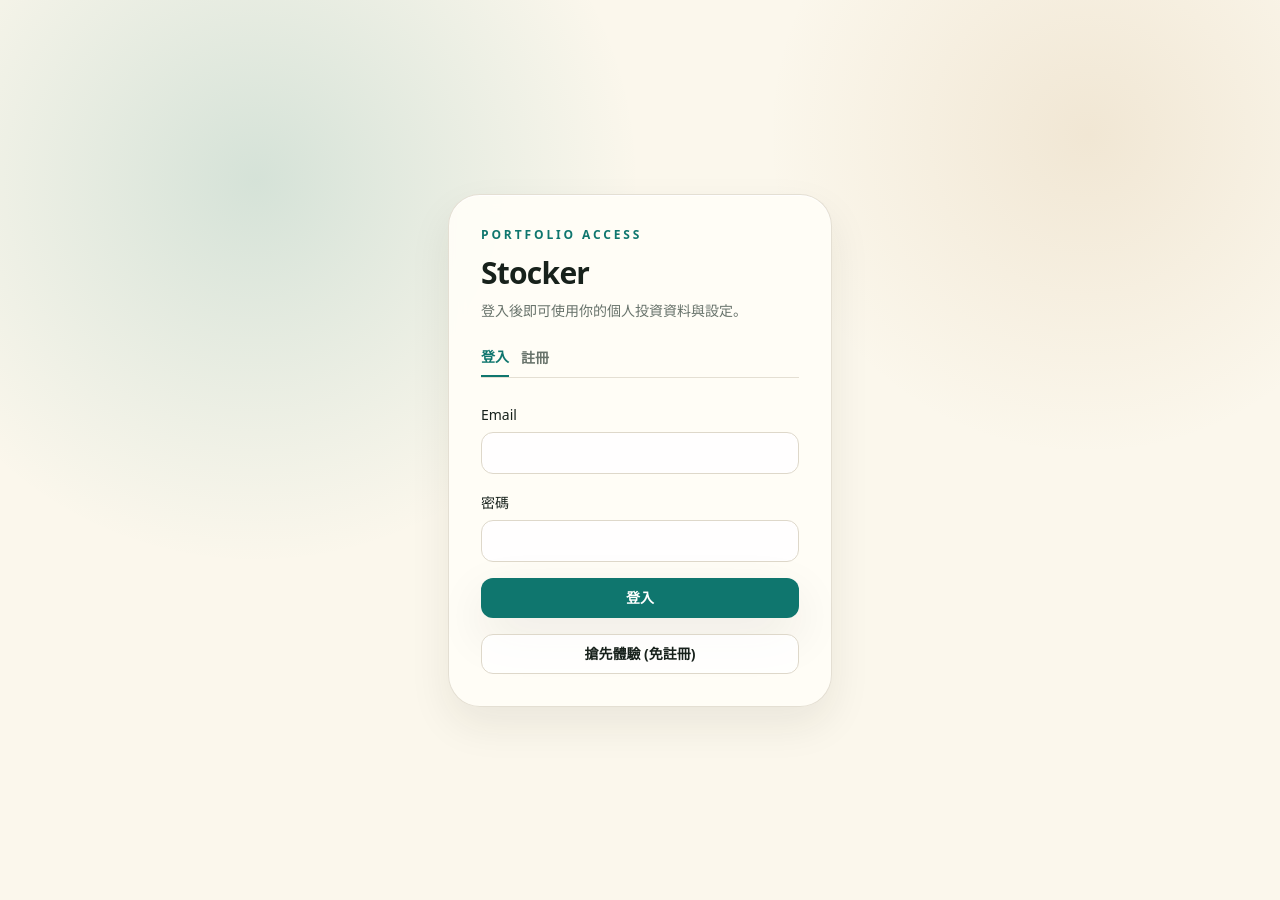
Test: LoginPage › logs in with the demo account when the demo button is clicked
This screenshot has width=1280, height=900.
What coordinates should you click on to do the following:
click the button "搶先體驗 (免註冊)"
I would click on:
 (640, 654)
Its box is [481,634,799,674].
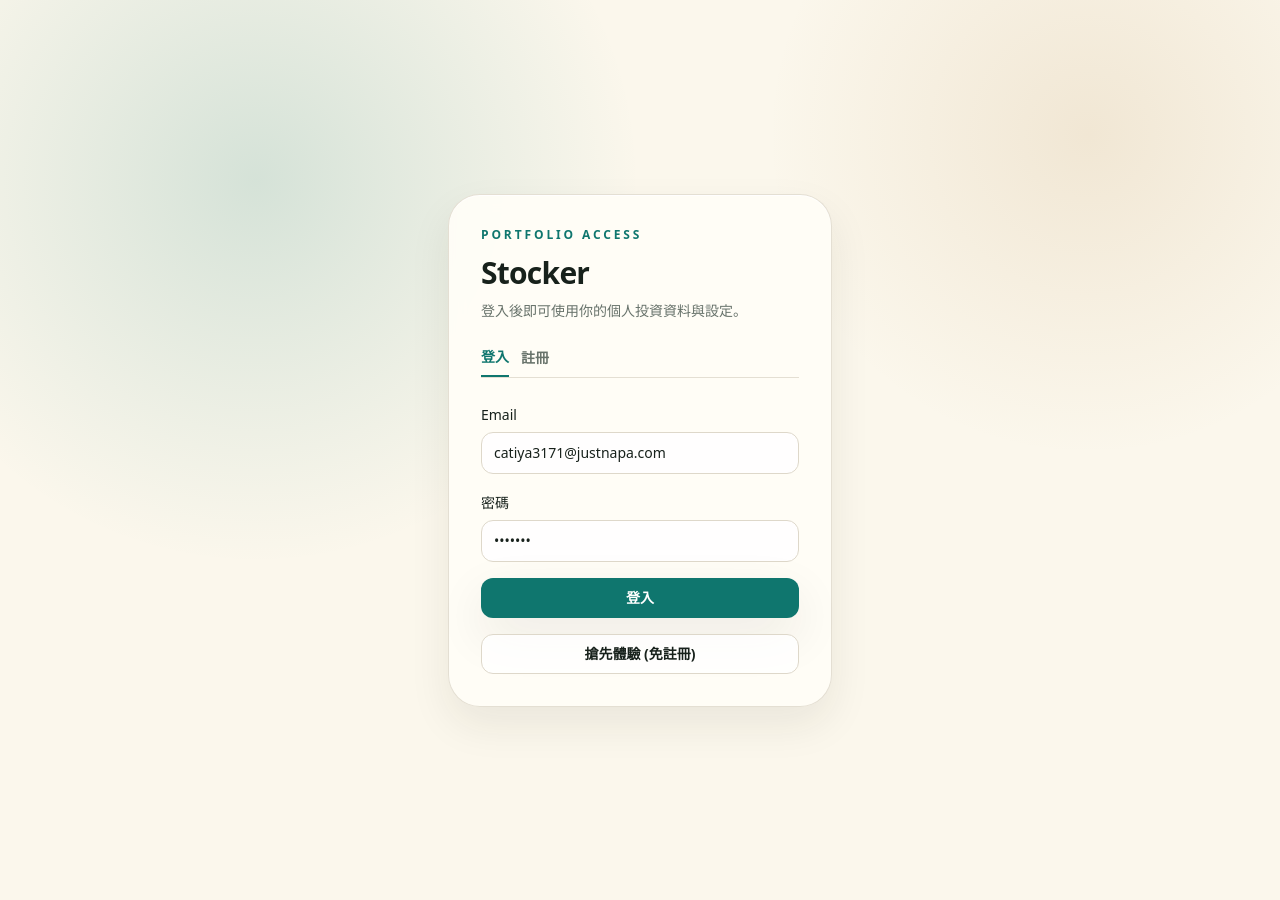
Check: the field labelled "Email" holds "catiya3171@justnapa.com", box [481,432,799,474]
Check: the password field labelled "密碼" holds "demo123", box [481,520,799,562]
